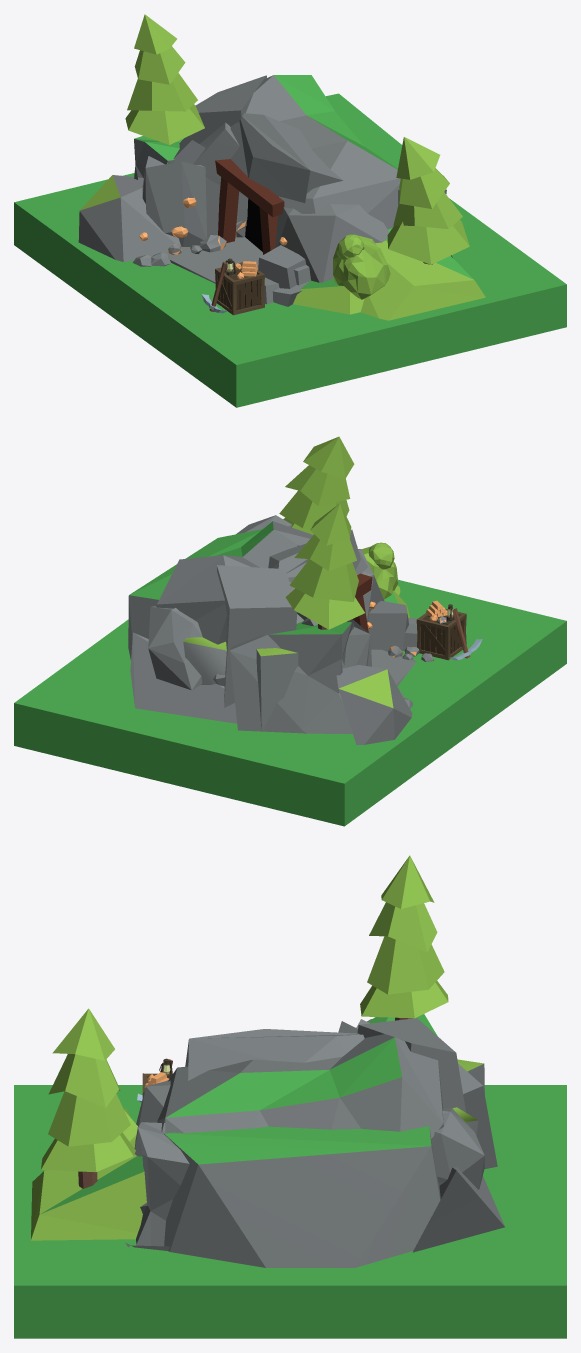
File: mine_lvl2.fbx
3 views of the same model, one above another, from view 1: azimuth 30°, elevation 25°; view 2: azimuth 150°, elevation 25°; view 3: azimuth 270°, elevation 25° (orthographic). The views are drawn at different scales.
Parts seen in each view (by area): view 1: terrain, group1774266040, group1731338008, group1623525114, group1806860140, group981371949, group897427996, group595478641, group1806860140.001, group414712452.001, group414712452, group1193226793 (+11 smaller); view 2: terrain, group954393760, group717177999, group1774266040, group1623525114, group981371949, group1731338008, group1774266040.001, group76132093, group624108358.001, group414712452, Crate (+6 smaller); view 3: terrain, group624108358.001, group1774266040, group1731338008, group1623525114, group897427996, group1806860140, group954393760.001, group1774266040.001, group717177999, group76132093, group954393760 (+1 smaller).
Boxes of the visible parts, x1,y1,x2,y2 form: terrain: (14,173,566,407); group1774266040: (246,75,400,229); group1731338008: (387,137,469,264); group1623525114: (125,14,204,144); group1806860140: (230,113,343,202); group981371949: (78,175,181,261); group897427996: (361,228,485,320); group595478641: (275,200,389,282); group1806860140.001: (142,156,207,246); group414712452.001: (173,122,248,236); group414712452: (258,245,310,306); group1193226793: (333,234,390,299); terrain: (14,579,566,826); group954393760: (229,621,353,733); group717177999: (183,565,298,729); group1774266040: (156,521,367,644); group1623525114: (285,503,364,629); group981371949: (336,665,412,744); group1731338008: (279,436,357,546); group1774266040.001: (130,632,237,723); group76132093: (148,606,202,690); group624108358.001: (128,529,262,659); group414712452: (368,601,417,650); Crate: (416,608,466,660); terrain: (14,1085,566,1338); group624108358.001: (164,1126,440,1267); group1774266040: (157,1034,450,1140); group1731338008: (41,1008,135,1188); group1623525114: (360,855,448,1020); group897427996: (31,1141,146,1240); group1806860140: (185,1029,364,1080); group954393760.001: (125,1122,189,1250); group1774266040.001: (412,1167,504,1252); group717177999: (357,1018,484,1135); group76132093: (431,1108,484,1189); group954393760: (368,1014,497,1169).
Size of the model in its own units: 265 by 206 by 309.
